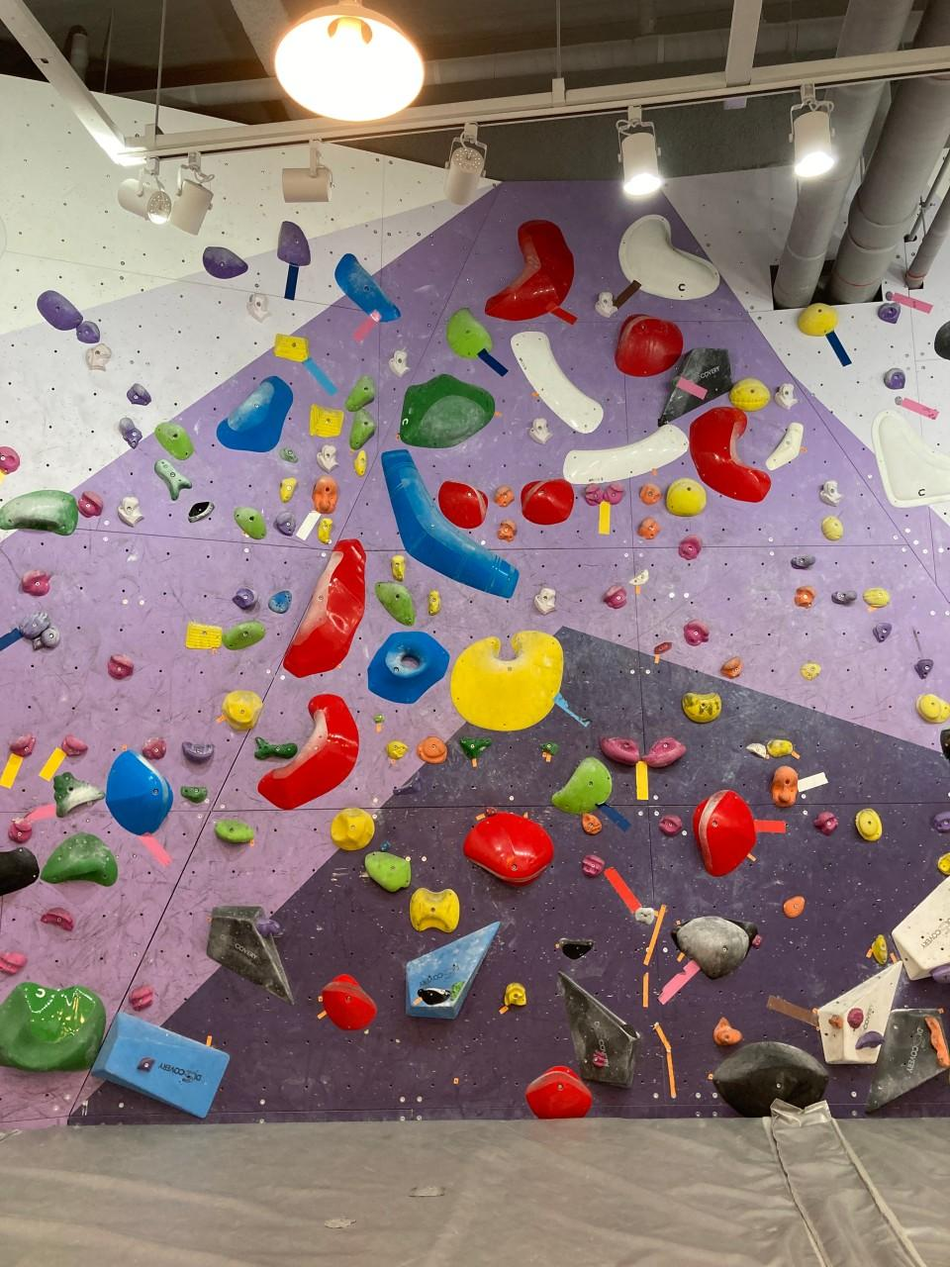hold: (382, 451, 518, 597), (449, 631, 562, 731), (260, 694, 358, 809), (283, 540, 365, 677), (0, 982, 106, 1072), (511, 331, 603, 433), (712, 1041, 828, 1117), (488, 216, 574, 316), (620, 215, 718, 299), (872, 407, 949, 508), (690, 406, 770, 501), (564, 424, 688, 484), (399, 373, 494, 445), (463, 813, 553, 884), (368, 632, 449, 704), (105, 749, 172, 835), (217, 376, 292, 451), (673, 916, 757, 979), (694, 790, 755, 876), (335, 253, 399, 321), (41, 831, 117, 886), (615, 314, 682, 374), (526, 1066, 592, 1118), (0, 490, 76, 535), (552, 758, 611, 812), (322, 975, 374, 1028), (437, 481, 487, 530), (522, 479, 574, 525), (53, 771, 104, 817), (445, 308, 491, 358), (411, 887, 460, 932), (328, 812, 376, 854), (0, 847, 39, 897), (365, 851, 410, 892), (375, 582, 416, 625), (766, 423, 803, 470), (38, 290, 81, 329), (222, 691, 262, 731), (666, 478, 706, 516), (154, 459, 191, 500), (203, 246, 247, 279), (154, 422, 193, 459), (278, 221, 310, 266), (19, 613, 58, 649), (641, 737, 685, 768), (729, 378, 770, 411), (798, 304, 837, 336), (925, 1016, 949, 1068), (223, 621, 265, 649), (770, 766, 798, 807), (683, 693, 721, 723), (344, 376, 375, 412), (600, 737, 639, 765), (310, 404, 342, 438), (349, 409, 375, 449), (313, 475, 338, 515), (235, 507, 265, 539), (916, 694, 949, 723), (274, 334, 308, 362), (257, 736, 297, 759), (215, 820, 253, 844), (856, 809, 882, 843), (186, 622, 221, 647), (713, 1017, 742, 1046), (417, 736, 446, 763), (20, 570, 50, 596), (85, 342, 111, 371), (118, 496, 142, 527), (41, 907, 73, 930), (459, 737, 491, 759), (77, 491, 103, 518), (558, 939, 593, 959), (107, 654, 134, 679), (120, 417, 142, 447), (182, 741, 213, 762), (393, 771, 420, 795), (683, 621, 709, 645), (10, 733, 36, 757), (129, 985, 153, 1011), (533, 587, 555, 615), (247, 293, 268, 322), (678, 535, 702, 560), (0, 951, 26, 974), (60, 734, 87, 756), (595, 291, 617, 318), (934, 321, 949, 360), (861, 588, 890, 608), (0, 445, 20, 474), (268, 590, 292, 614), (187, 501, 214, 522), (233, 587, 257, 610), (581, 854, 605, 877), (813, 811, 837, 834), (141, 737, 165, 760), (504, 982, 526, 1007), (418, 988, 450, 1005), (603, 585, 626, 608), (9, 819, 32, 842), (658, 814, 682, 836), (819, 480, 841, 504), (275, 511, 296, 536), (775, 383, 796, 408), (529, 418, 550, 443), (317, 445, 337, 471), (389, 349, 408, 376), (871, 934, 888, 964), (75, 321, 98, 343), (822, 516, 843, 540), (639, 483, 661, 505), (720, 656, 742, 678), (783, 896, 805, 918), (637, 518, 659, 539), (883, 367, 905, 388), (767, 739, 794, 756), (856, 1031, 883, 1048), (180, 786, 208, 802), (280, 477, 297, 502), (128, 383, 149, 403), (494, 486, 514, 507), (795, 586, 814, 608), (603, 485, 625, 504), (585, 484, 603, 507), (878, 304, 899, 323), (932, 810, 949, 833), (382, 743, 412, 756), (582, 814, 601, 834), (633, 907, 655, 924), (257, 919, 280, 935), (497, 523, 517, 541), (832, 590, 856, 605), (428, 589, 441, 616), (801, 662, 820, 680), (873, 623, 891, 642), (914, 660, 932, 679), (932, 964, 949, 984), (628, 570, 648, 587), (847, 1008, 863, 1029), (792, 554, 814, 569), (936, 851, 949, 876), (354, 449, 366, 476), (620, 1022, 638, 1040), (318, 519, 332, 542), (747, 744, 768, 758), (393, 554, 404, 580), (592, 1049, 607, 1067), (653, 641, 672, 655), (452, 981, 465, 1001), (280, 447, 297, 462), (138, 1056, 154, 1071), (829, 1015, 842, 1028), (753, 933, 762, 947), (885, 291, 893, 301), (895, 395, 903, 405), (672, 379, 678, 389)
volume: (90, 1012, 227, 1118), (558, 971, 637, 1088), (406, 923, 500, 1019), (816, 962, 901, 1064), (867, 1008, 949, 1112), (207, 905, 292, 1001), (892, 877, 949, 980), (657, 348, 731, 427)
